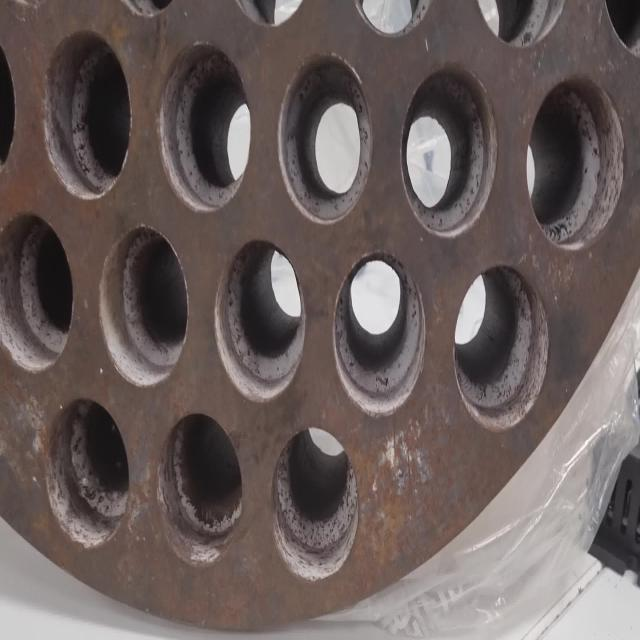Hole: (526, 75, 625, 250), (400, 62, 498, 238), (278, 54, 374, 225), (453, 264, 551, 431), (157, 41, 252, 213), (42, 28, 132, 200), (214, 236, 306, 404), (333, 251, 426, 417), (98, 224, 189, 388), (156, 410, 243, 568), (272, 427, 360, 583), (46, 396, 130, 549), (1, 210, 74, 374)
